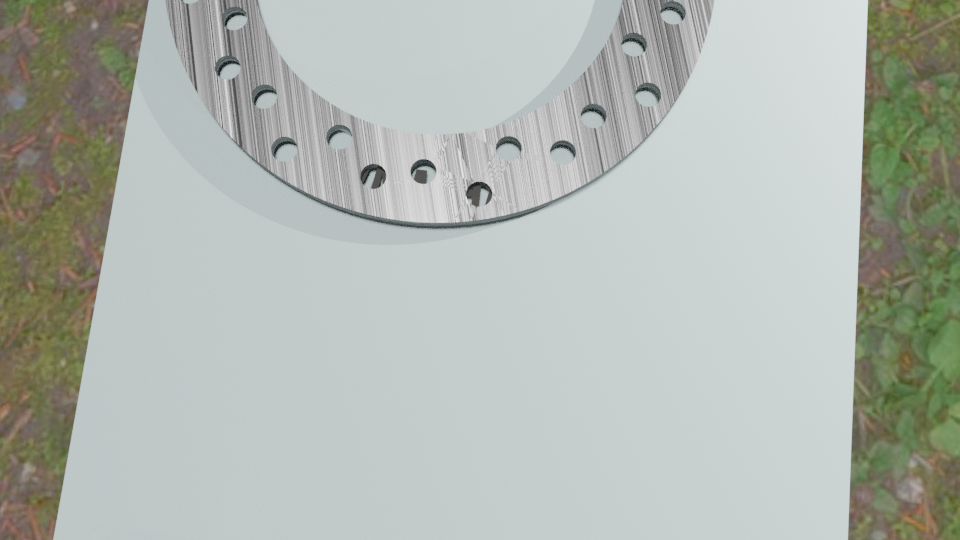yamaha_letters: (359, 158, 492, 207)
